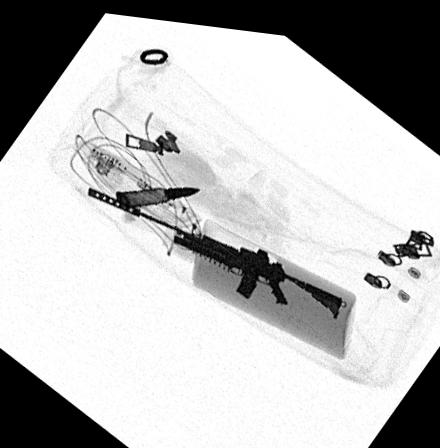Bullet: (113, 181, 200, 204)
Gun: (86, 183, 345, 311)
